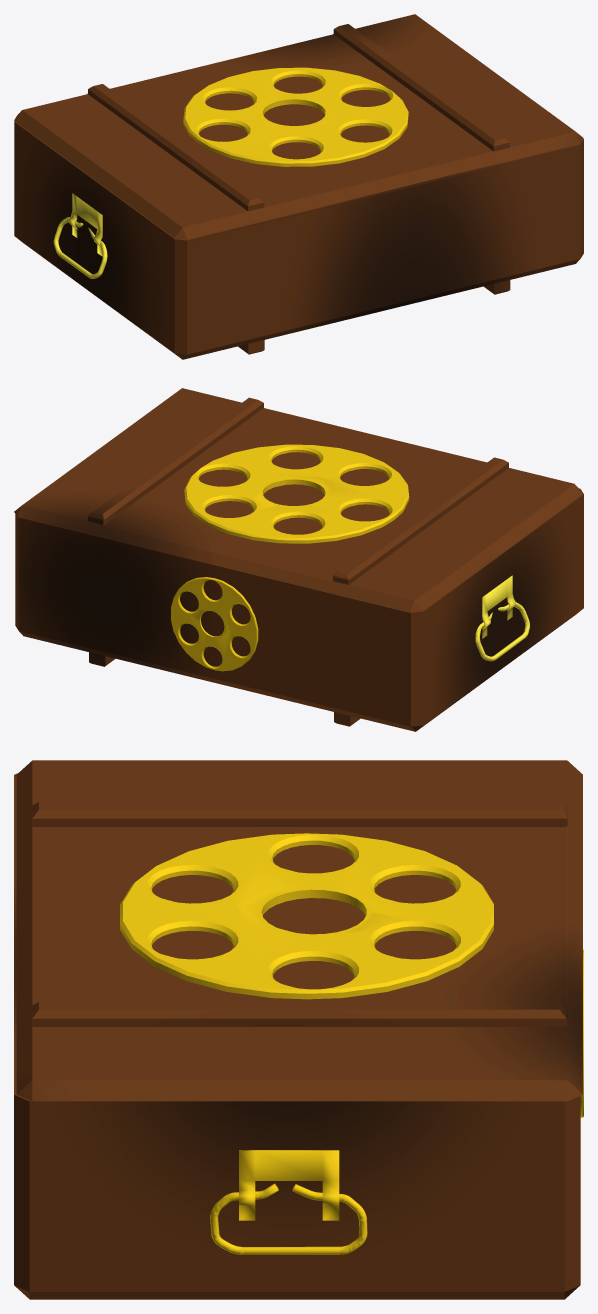
File: Ammo_Rev.glb
3 views of the same model, one above another, from view 1: azimuth 30°, elevation 25°; view 2: azimuth 150°, elevation 25°; view 3: azimuth 270°, elevation 25° (orthographic). The views are drawn at different scales.
Parts seen in each view (by area): view 1: AmmoR_bot, Ammo_top, Ammo_Symbol_top, Handel_right, Ring_right; view 2: AmmoR_bot, Ammo_top, Ammo_Symbol_top, AmmoR_Symbol_bot, Handel_right, Ring_right; view 3: Ammo_top, AmmoR_bot, Ammo_Symbol_top, HandelR_left, Ring_left.
Boxes of the visible parts, x1=… form: AmmoR_bot: x1=14, y1=121, x2=583, y2=359; Ammo_top: x1=14, y1=14, x2=583, y2=239; Ammo_Symbol_top: x1=183, y1=67, x2=408, y2=166; Handel_right: x1=68, y1=193, x2=102, y2=256; Ring_right: x1=53, y1=217, x2=107, y2=278; AmmoR_bot: x1=15, y1=488, x2=583, y2=731; Ammo_top: x1=14, y1=388, x2=582, y2=612; Ammo_Symbol_top: x1=184, y1=444, x2=409, y2=543; AmmoR_Symbol_bot: x1=171, y1=577, x2=258, y2=671; Handel_right: x1=482, y1=575, x2=515, y2=638; Ring_right: x1=475, y1=602, x2=529, y2=661; Ammo_top: x1=16, y1=760, x2=582, y2=1101; AmmoR_bot: x1=14, y1=773, x2=580, y2=1299; Ammo_Symbol_top: x1=120, y1=833, x2=493, y2=999; HandelR_left: x1=239, y1=1150, x2=339, y2=1220; Ring_left: x1=210, y1=1183, x2=367, y2=1254.
Size of the model in its own units: 2.04 by 0.6902 by 1.4.
Materials: 5 (5 with a texture image).
